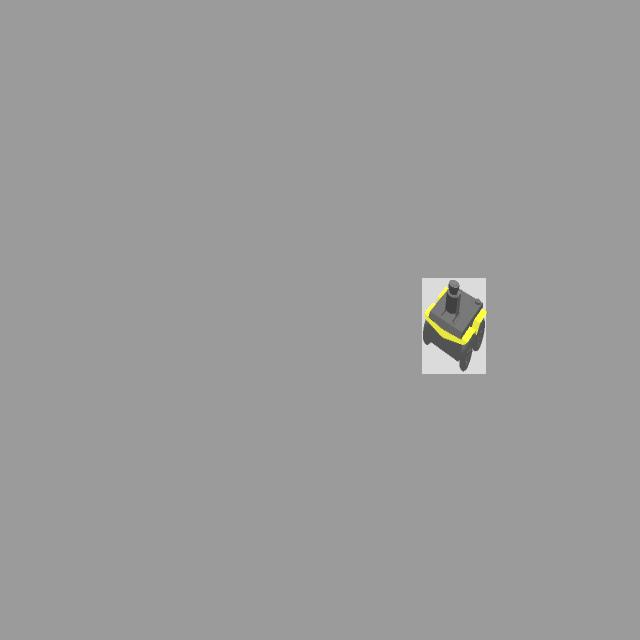jackal: (422, 278, 486, 374)
